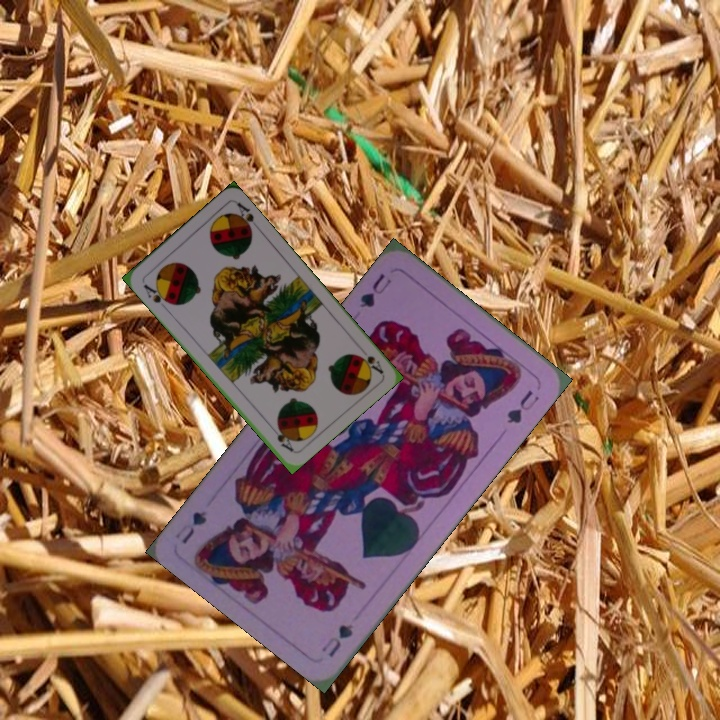GU: (355, 269, 394, 311), (317, 620, 356, 660)
SA: (139, 280, 174, 307), (352, 350, 385, 376)
